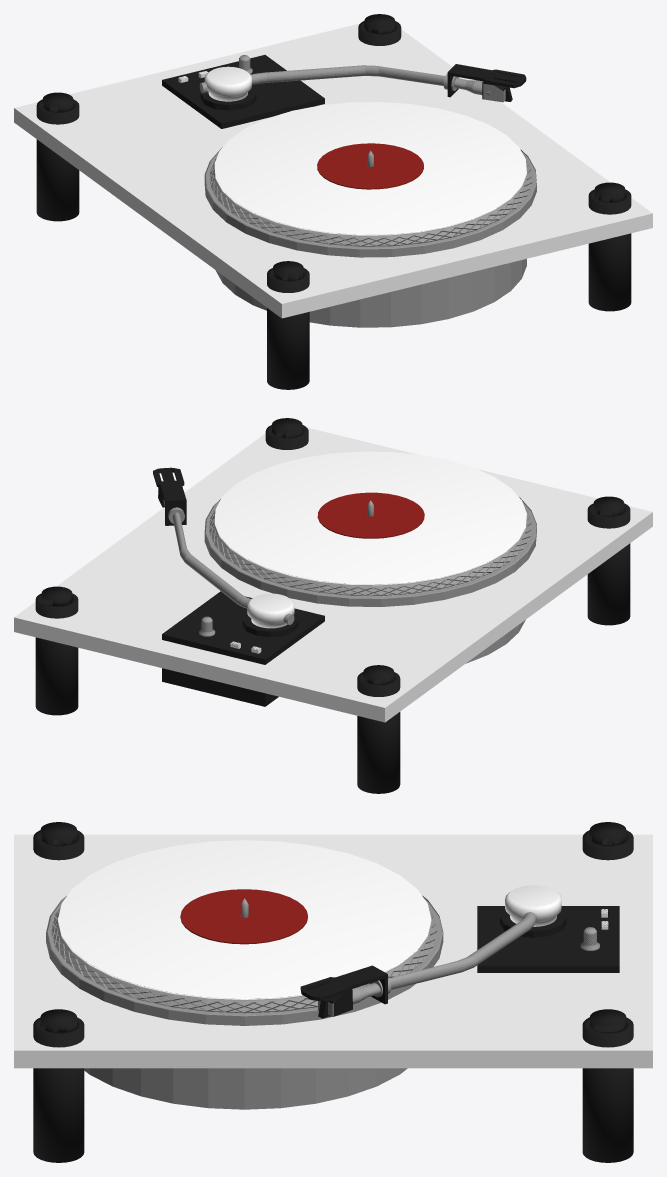
File: vinylPlayer.glb
3 renders of one model, top to bottom at view 1: azimuth 30°, elevation 25°; view 2: azimuth 150°, elevation 25°; view 3: azimuth 270°, elevation 25°, orthographic. The views are drawn at different scales.
Visible parts, largest first — view 1: Cube, Cylinder, Cylinder.005, Cylinder.002, Cube.001, Cylinder.004, Cylinder.007, Cylinder.006, Cube.002; view 2: Cube, Cylinder, Cylinder.002, Cylinder.005, Cube.001, Cylinder.004, Cylinder.007, Cylinder.006, Cube.002; view 3: Cube, Cylinder, Cylinder.005, Cylinder.002, Cube.001, Cylinder.004, Cylinder.007, Cylinder.006, Cube.002, Cube.003.
Boxes of the visible parts, x1,y1,x2,y2 form: Cube: (14,23,652,318); Cylinder: (214,102,526,235); Cylinder.005: (204,147,536,327); Cylinder.002: (36,14,631,389); Cube.001: (162,55,324,128); Cylinder.004: (317,143,423,189); Cylinder.007: (199,65,458,93); Cylinder.006: (204,66,251,101); Cube.002: (447,64,526,97); Cube: (14,427,652,722); Cylinder: (214,451,526,585); Cylinder.002: (35,418,630,793); Cylinder.005: (204,497,536,663); Cube.001: (162,591,324,706); Cylinder.004: (317,492,424,538); Cylinder.007: (168,507,294,624); Cylinder.006: (247,593,294,628); Cube.002: (153,467,186,525); Cube: (14,834,652,1068); Cylinder: (58,840,431,999); Cylinder.005: (46,895,443,1109); Cylinder.002: (33,822,633,1162); Cube.001: (477,906,619,972); Cylinder.004: (180,889,307,944); Cylinder.007: (369,912,536,997); Cylinder.006: (505,885,561,926); Cube.002: (300,965,387,1004); Cube.003: (318,989,352,1018).
Size of the model in its own units: 0.4003 by 0.1457 by 0.5.
